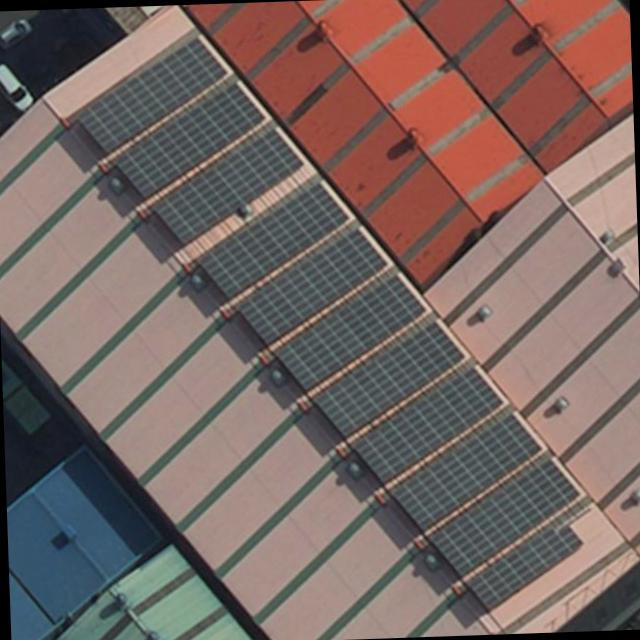solar: (340, 356, 514, 486), (224, 220, 394, 350), (302, 314, 469, 446), (382, 409, 548, 537), (262, 269, 428, 395), (104, 76, 270, 202), (67, 32, 236, 154), (187, 178, 355, 300), (146, 121, 309, 246), (427, 458, 584, 579), (461, 520, 587, 614)
